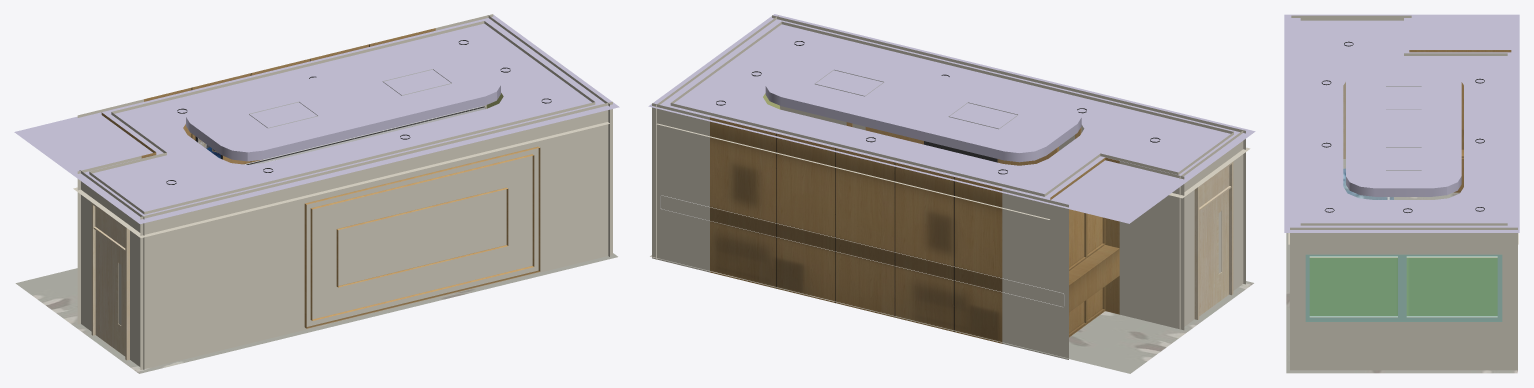
Rendered from bingfang.fbx.
The picture shows the model from 3 angles, left to right: view 1: azimuth 30°, elevation 25°; view 2: azimuth 150°, elevation 25°; view 3: azimuth 270°, elevation 25°; orthographic projection. The views are drawn at different scales.
Visible parts, largest first — view 1: Wall1, WuDing, Men01, Wall, DiBan1, ChuangTou1, Deng; view 2: Wall1, WuDing, ChuZi1, DiBan1, Men01, ChuangTou1, Wall, Deng; view 3: WuDing, Wall1, BoLi1, ChangLian, DiBan1, ChuZi1, Deng, Men01.
Part boxes in pixels (x1,y1,x2,y2): Wall1: (73,14,612,369); WuDing: (14,15,619,224); Men01: (91,202,129,360); Wall: (304,146,540,328); DiBan1: (15,253,617,373); ChuangTou1: (244,106,485,164); Deng: (166,40,551,184); Wall1: (652,15,1250,359); WuDing: (648,14,1255,223); ChuZi1: (1050,157,1119,337); DiBan1: (650,255,1253,373); Men01: (1194,161,1233,319); ChuangTou1: (660,195,1064,306); Wall: (846,122,1081,165); Deng: (716,41,1160,174); WuDing: (1284,14,1519,232); Wall1: (1288,15,1518,371); BoLi1: (1306,255,1501,321); ChangLian: (1309,257,1497,315); DiBan1: (1286,159,1517,373); ChuZi1: (1409,50,1511,192); Deng: (1321,41,1484,212); Men01: (1343,82,1345,158).
Size of the model in its own units: 996 by 326 by 453.
